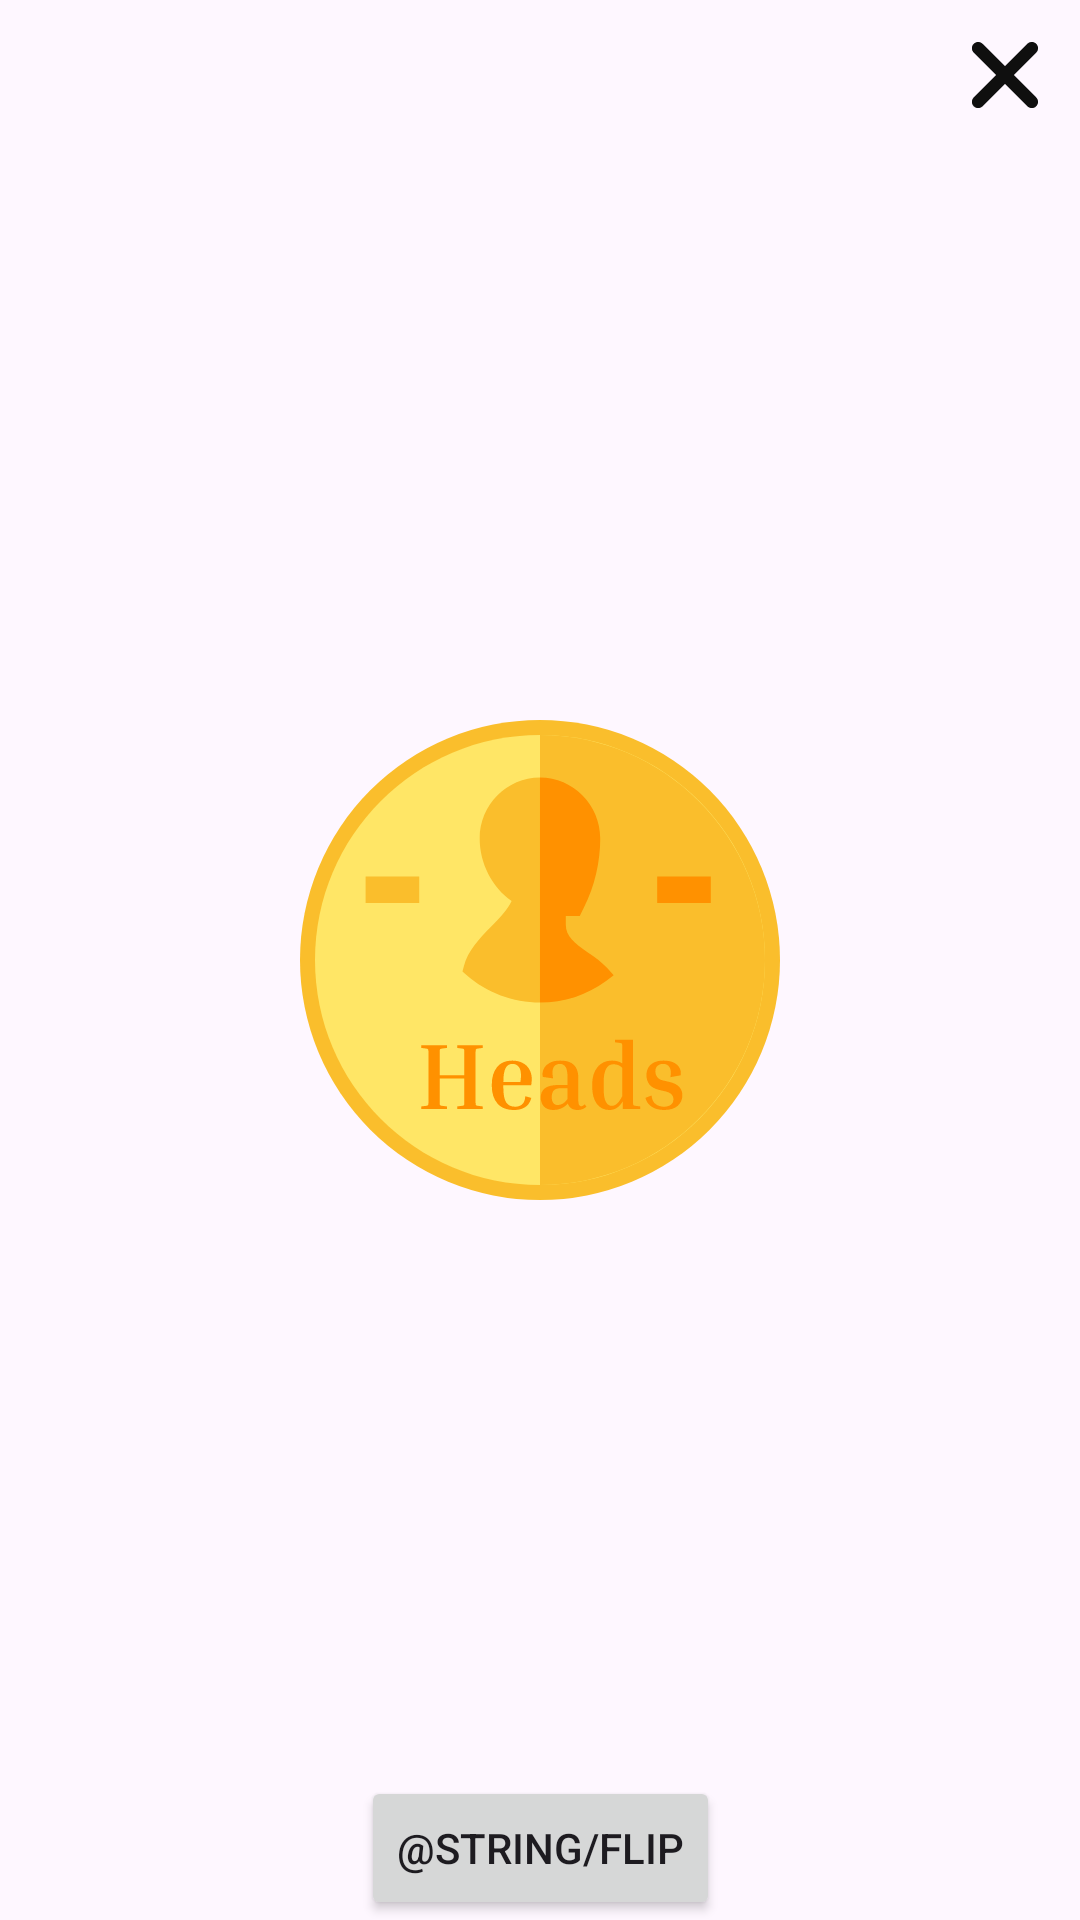

Locate icon controls on the screen. Image size 1080*1920, boxes as [left=x1, top=y1, right=x2, bottom=y2].
cross: [left=972, top=42, right=1038, bottom=108]
